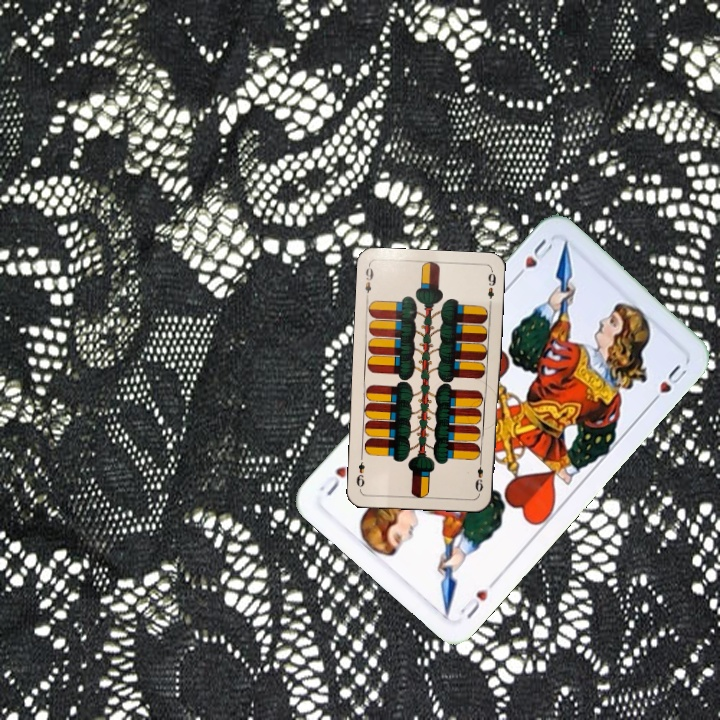E9: (471, 456, 486, 496), (361, 262, 376, 302)
HU: (509, 235, 557, 283), (455, 585, 491, 622)
